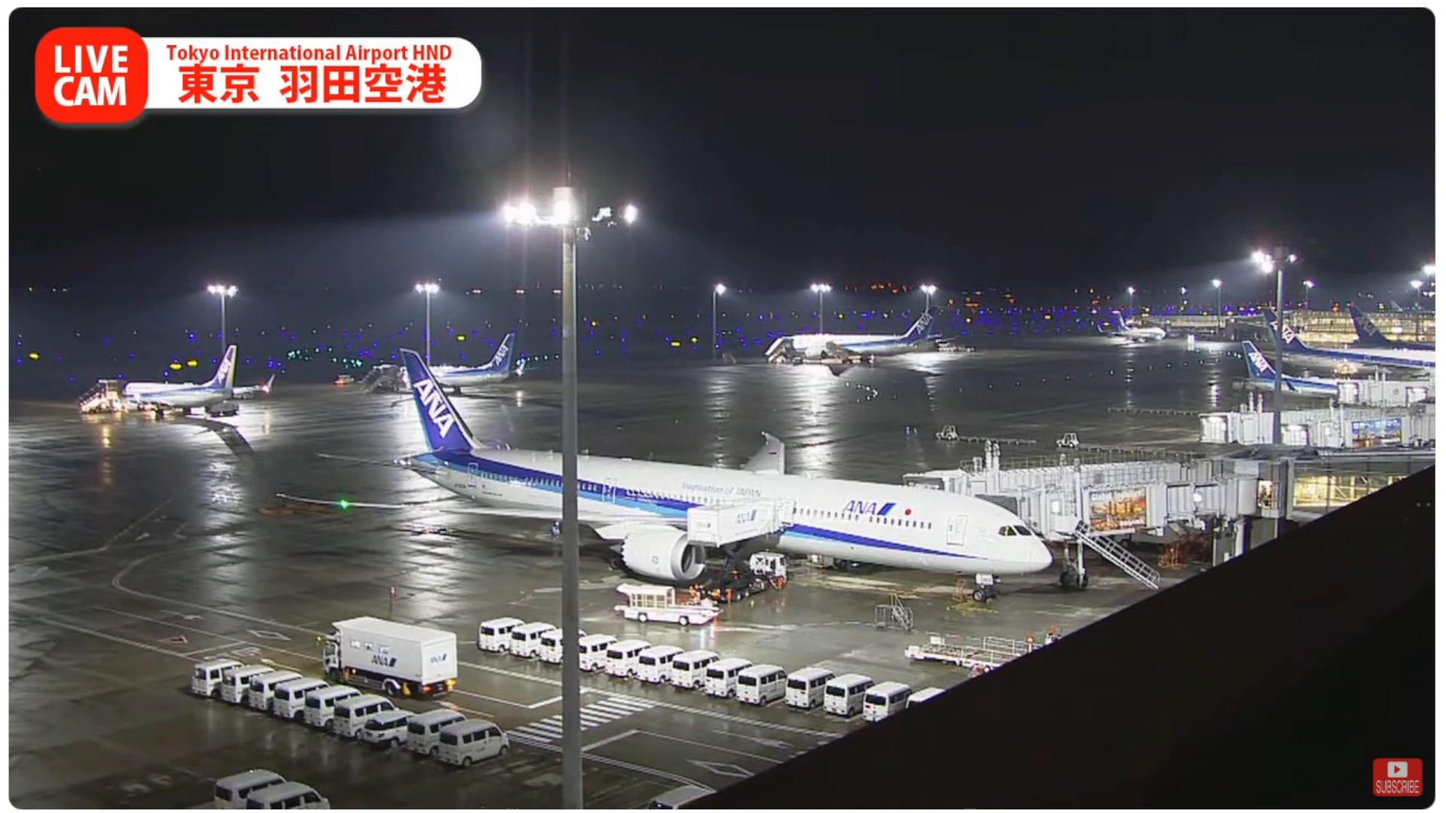Aerobridge: (988, 471, 1286, 539), (899, 458, 1292, 499)
Airplane: (265, 341, 1062, 595)
Catering: (678, 492, 793, 614)
JCPL: (901, 639, 1019, 678), (943, 630, 1053, 658)
Skyloader: (607, 586, 718, 627)
Window: (1286, 461, 1434, 519)
